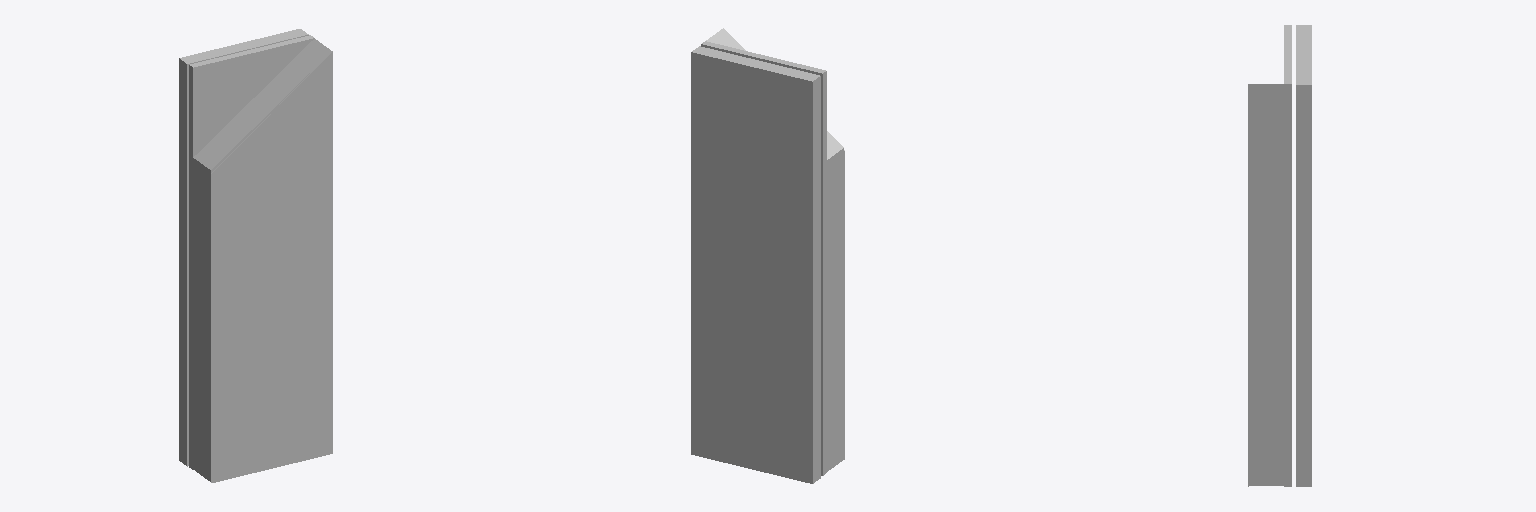
The model's file is CutAwayConcreteMassSprayExInsulation.obj.
3 renders of one model, left to right at view 1: azimuth 30°, elevation 25°; view 2: azimuth 150°, elevation 25°; view 3: azimuth 270°, elevation 25°, orthographic.
Visible parts, largest first — view 1: CutAwayConcreteMassSprayExInsulation.obj; view 2: CutAwayConcreteMassSprayExInsulation.obj; view 3: CutAwayConcreteMassSprayExInsulation.obj.
Boxes of the visible parts, box(x1,y1,x2,y2) form: CutAwayConcreteMassSprayExInsulation.obj: box(179, 29, 332, 482); CutAwayConcreteMassSprayExInsulation.obj: box(691, 28, 844, 483); CutAwayConcreteMassSprayExInsulation.obj: box(1248, 25, 1311, 486).
Size of the model in its own units: 0.8653 by 2.74 by 0.3969.